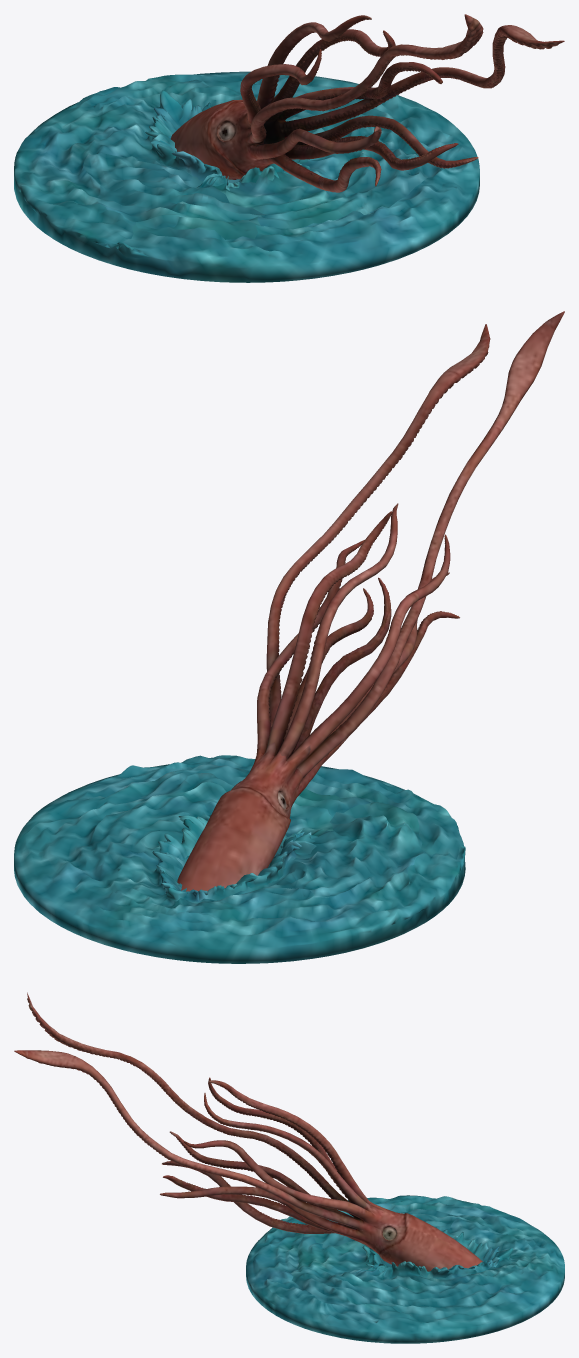
Rendered from MZ4250 - Squid_attack_2025.glb.
3 views of the same model, one above another, from view 1: azimuth 30°, elevation 25°; view 2: azimuth 150°, elevation 25°; view 3: azimuth 270°, elevation 25° (orthographic). The views are drawn at different scales.
Visible parts, largest first — view 1: Giant Squid_diving 2025.015; view 2: Giant Squid_diving 2025.015; view 3: Giant Squid_diving 2025.015.
Part boxes in pixels (left/top/right/bottom): Giant Squid_diving 2025.015: left=14, top=14, right=564, bottom=282; Giant Squid_diving 2025.015: left=14, top=311, right=564, bottom=963; Giant Squid_diving 2025.015: left=14, top=992, right=564, bottom=1343.
Size of the model in its own units: 423 by 387 by 730.
Materials: 2 (2 with a texture image).
